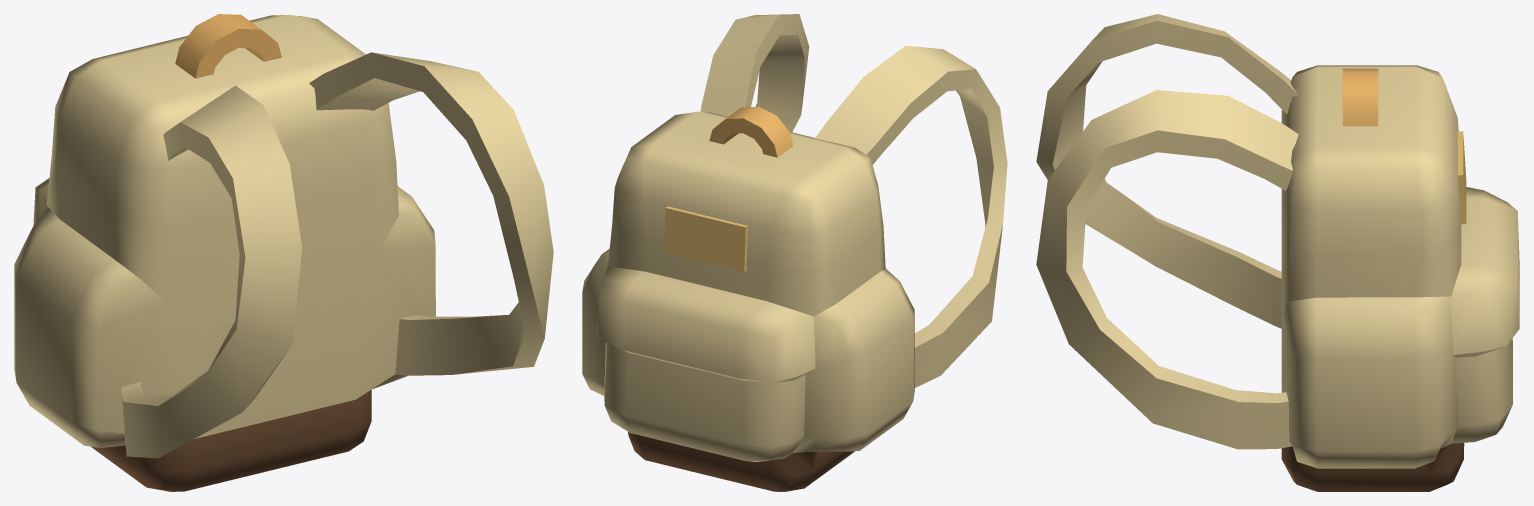
Rendered from Bag_5.fbx.
3 views of the same model, side by side, from view 1: azimuth 30°, elevation 25°; view 2: azimuth 150°, elevation 25°; view 3: azimuth 270°, elevation 25° (orthographic). The views are drawn at different scales.
Visible parts, largest first — view 1: Bag_5; view 2: Bag_5; view 3: Bag_5.
Boxes of the visible parts, x1=… form: Bag_5: x1=14, y1=14, x2=553, y2=491; Bag_5: x1=582, y1=14, x2=1007, y2=491; Bag_5: x1=1036, y1=14, x2=1519, y2=491.
Size of the model in its own units: 45.72 by 52.7 by 57.71.
